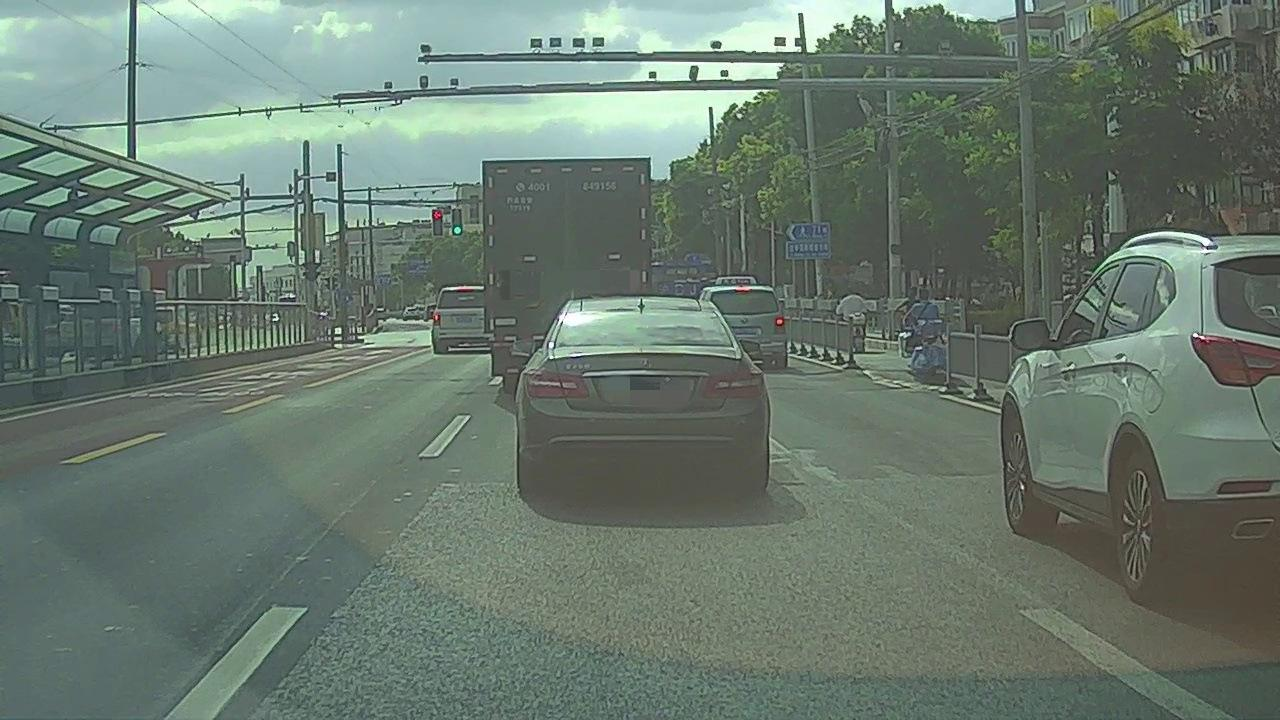traffic_light: (431, 209, 443, 236), (452, 208, 462, 238)
